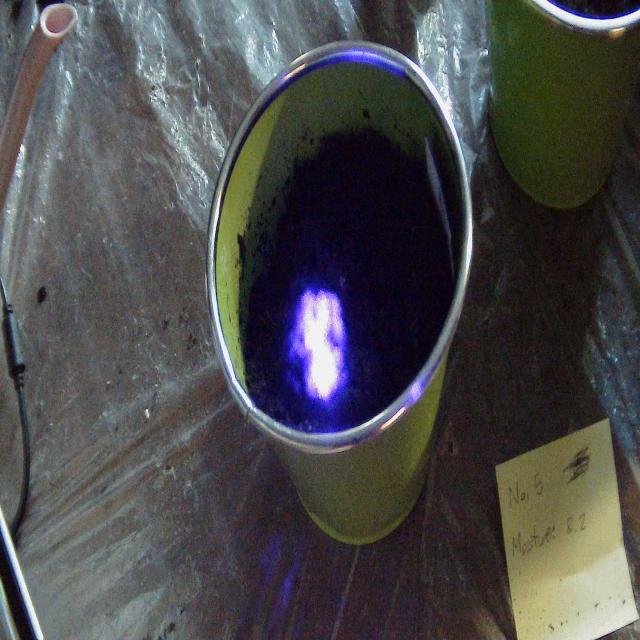soil-moisture-8.2: (293, 286, 348, 408)
